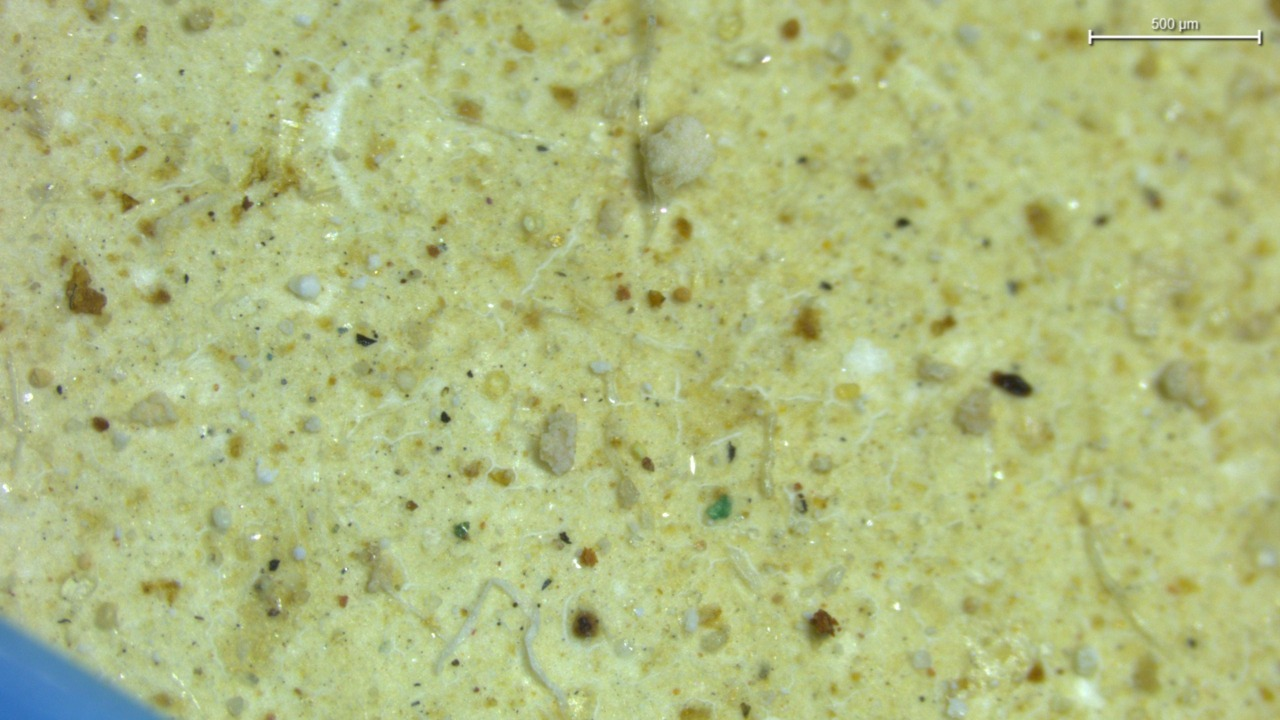microplastic_fragment: (646, 114, 719, 189), (1155, 363, 1210, 410), (540, 407, 577, 475), (959, 389, 993, 438), (288, 274, 321, 302)
